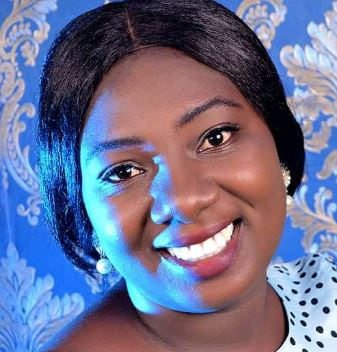without_facemask: (99, 197, 275, 303)
